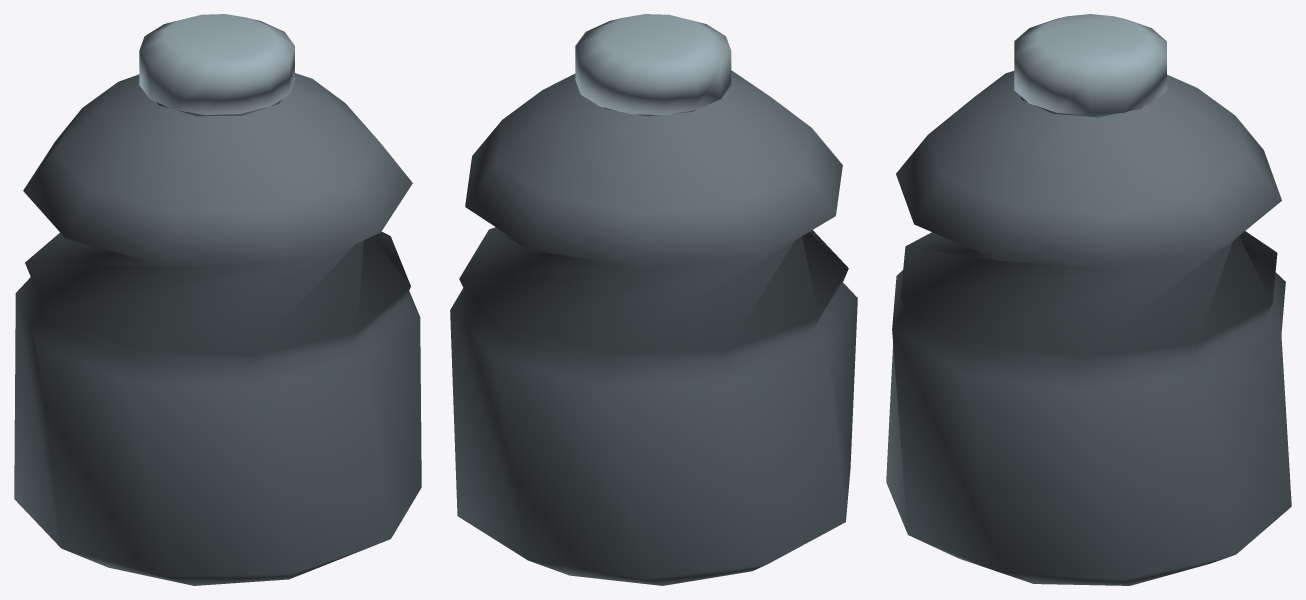
File: Crushed_Plastic_Bottle.fbx
3 renders of one model, left to right at view 1: azimuth 30°, elevation 25°; view 2: azimuth 150°, elevation 25°; view 3: azimuth 270°, elevation 25°, orthographic.
Visible parts, largest first — view 1: pCylinder90; view 2: pCylinder90; view 3: pCylinder90.
Boxes of the visible parts, <box> form: pCylinder90: <box>14,14,421,585</box>; pCylinder90: <box>450,14,857,585</box>; pCylinder90: <box>886,14,1291,585</box>.
Bounding box in the file's own units: 12.66 × 16.57 × 12.54.
